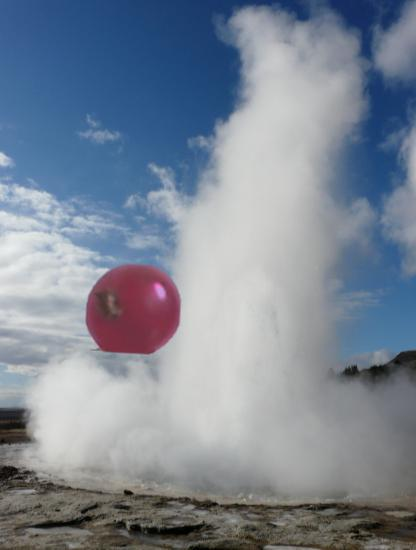Redcurrant: (84, 259, 182, 357)
